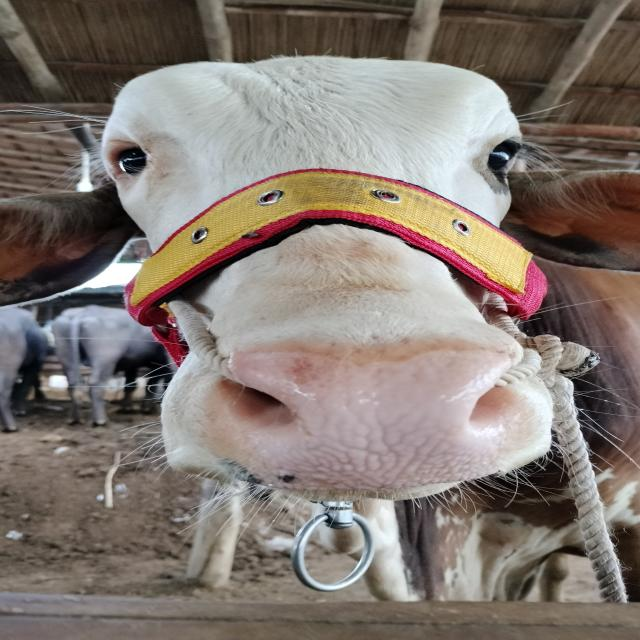muzzles: (194, 341, 556, 497)
